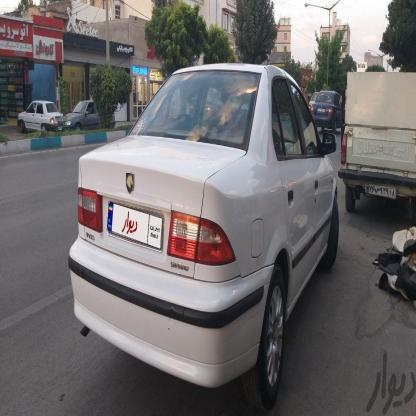Car: (67, 60, 338, 388), (337, 59, 416, 207), (18, 96, 66, 136), (67, 100, 109, 131), (309, 91, 342, 124)
